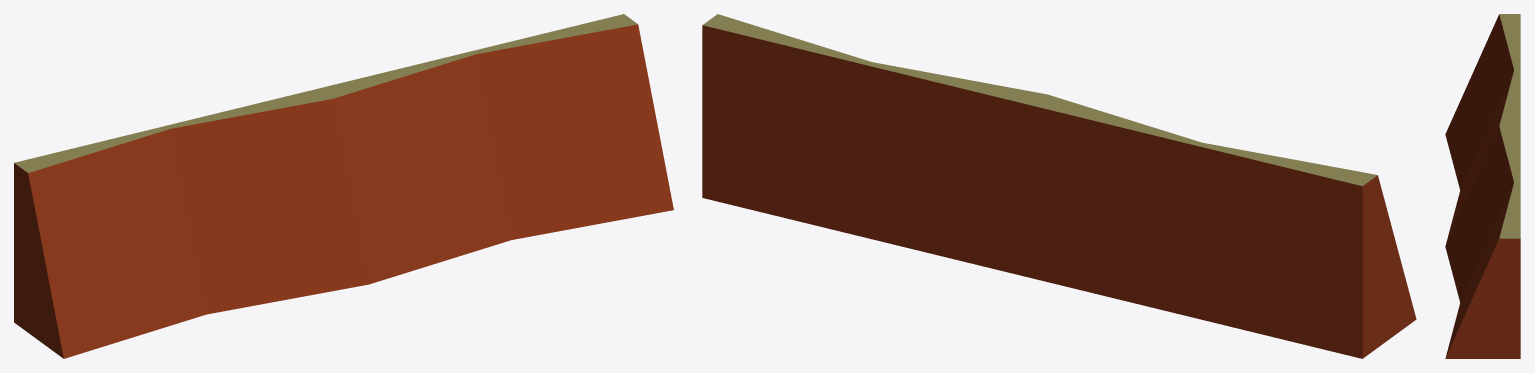
The model's file is S_base_grass.fbx.
3 views of the same model, side by side, from view 1: azimuth 30°, elevation 25°; view 2: azimuth 150°, elevation 25°; view 3: azimuth 270°, elevation 25° (orthographic). The views are drawn at different scales.
Visible parts, largest first — view 1: S_base_grass; view 2: S_base_grass; view 3: S_base_grass.
Boxes of the visible parts, x1,y1,x2,y2 form: S_base_grass: [14, 14, 673, 358]; S_base_grass: [702, 14, 1416, 358]; S_base_grass: [1445, 14, 1520, 358].
Bounding box in the file's own units: 200 × 50 × 28.34.
